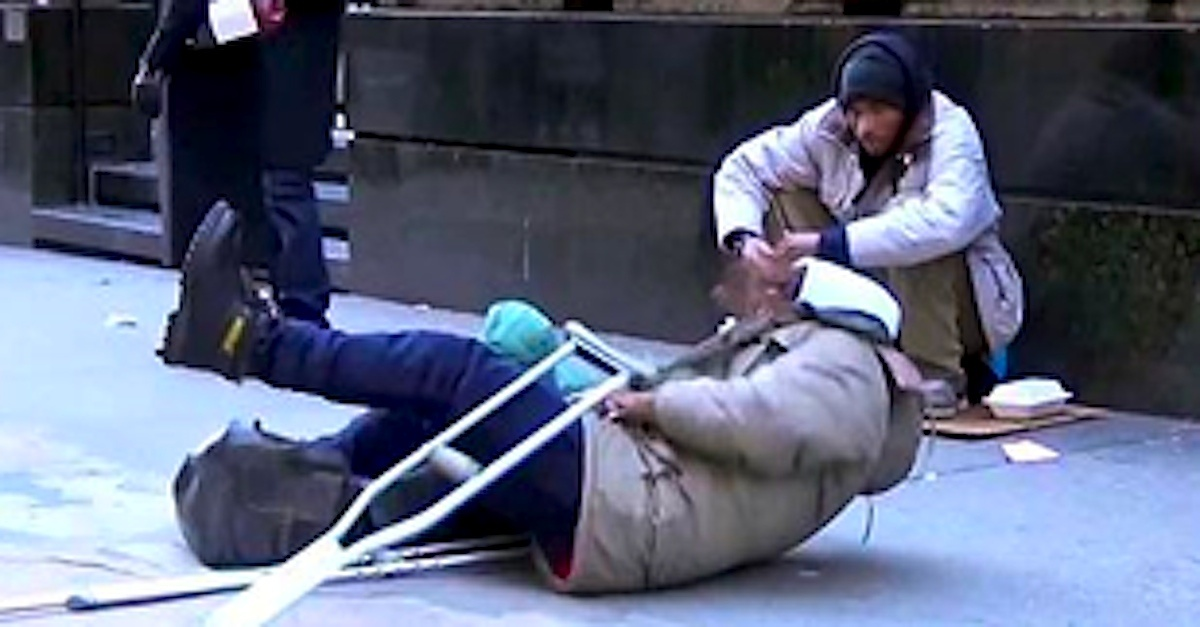falling: (125, 149, 945, 610)
